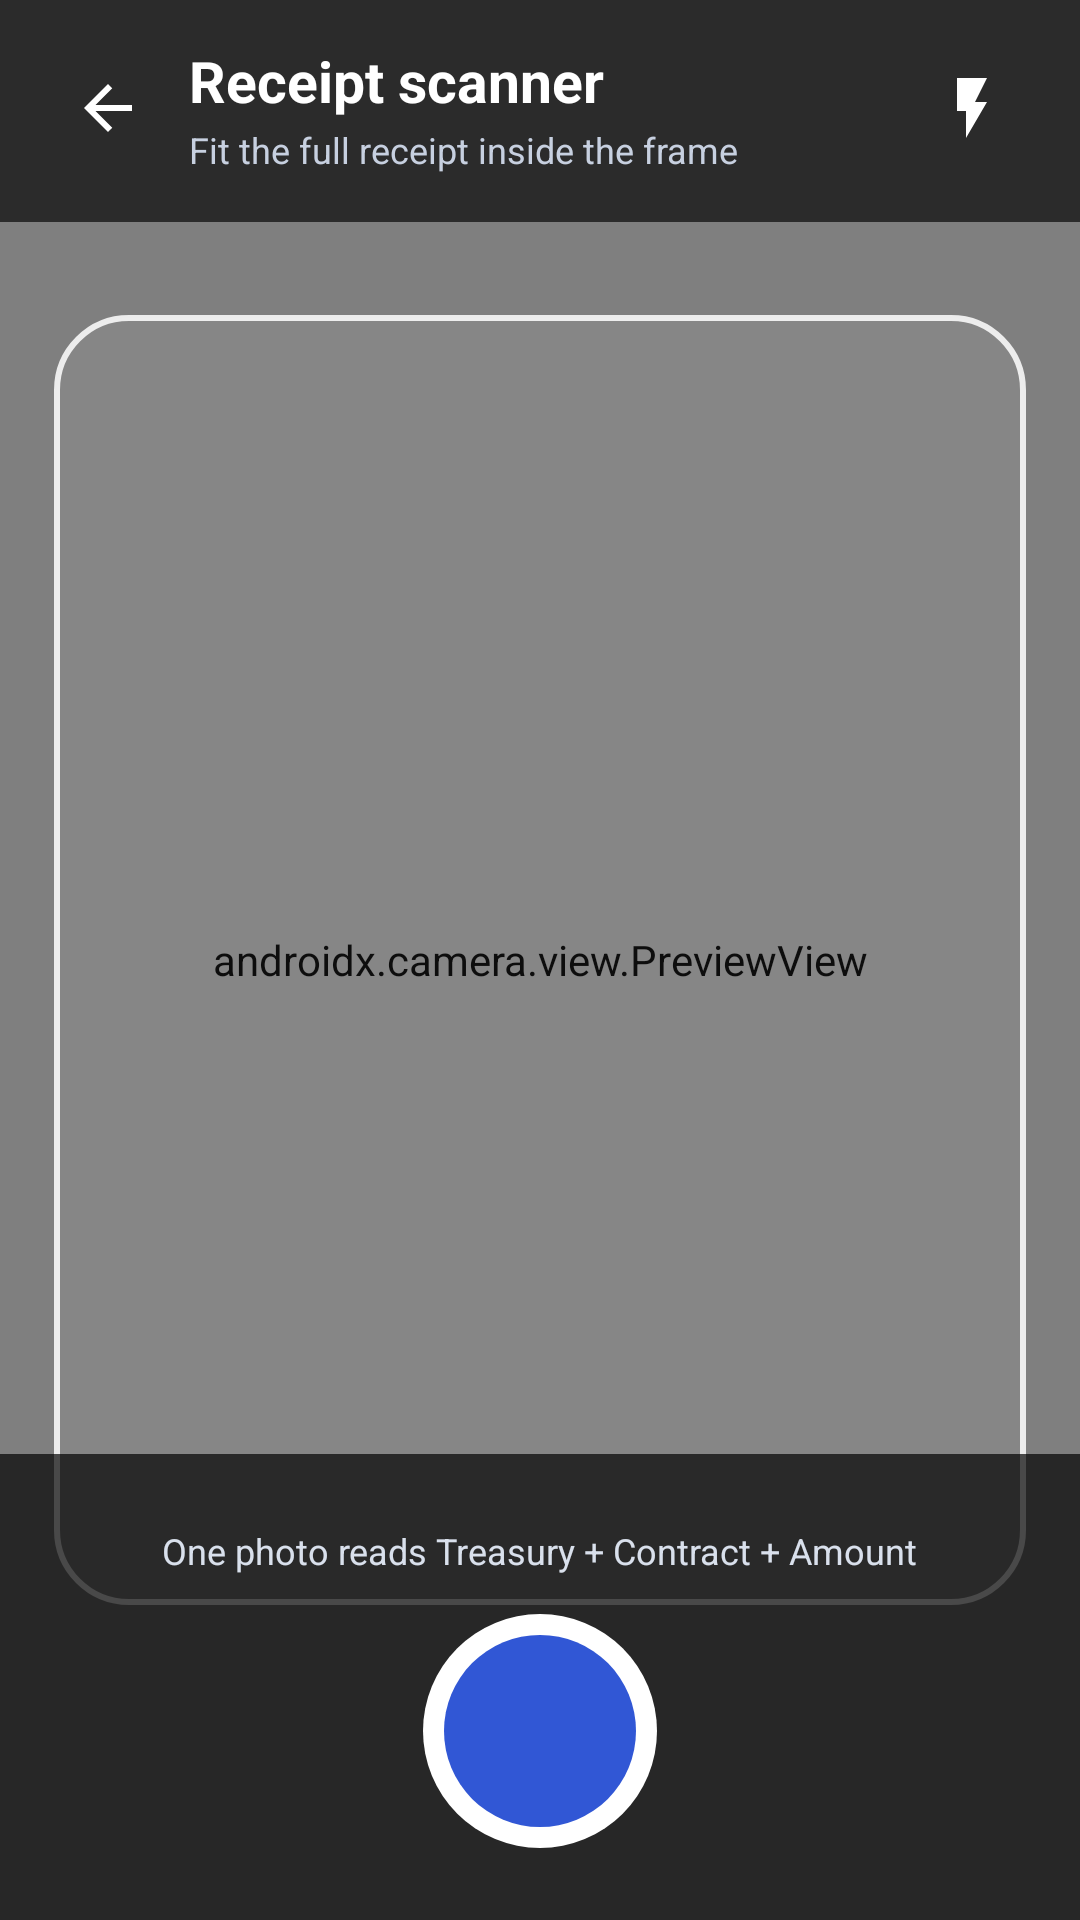

Screen size 1080 × 1920. Icon name, then its box in pixels as [x1,y1,x2,y2]:
Back: [84,84,132,132]
Flash: [957,78,987,138]
